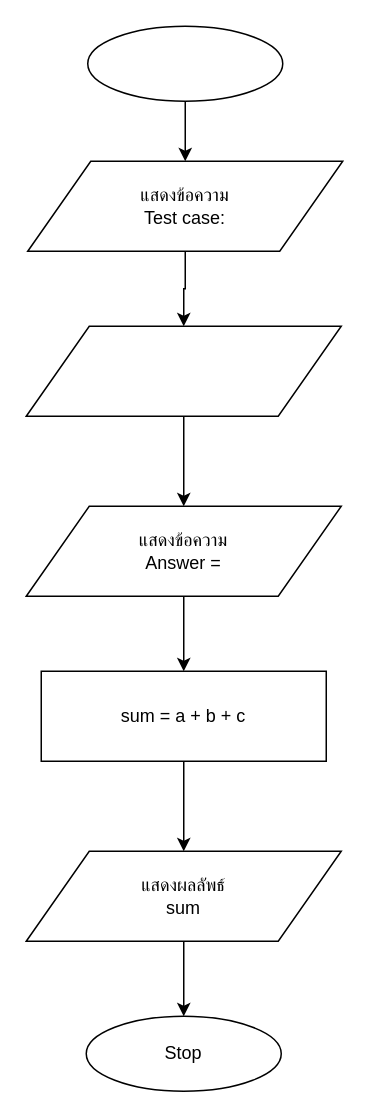
Image size: 369x1118. Some labels were removed from this diagram. Here are the shapes that lost their labels. From the top down, the centre of each, then its label:
At [184,63]: "Start".
At [183,370]: "รับ a, b, c (จำนวนเต็ม)".
